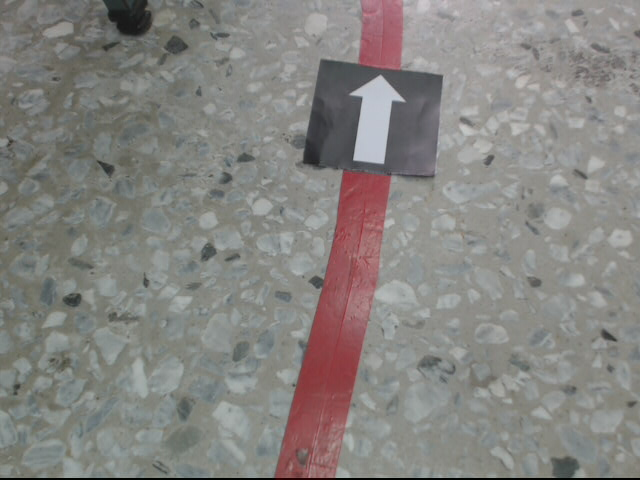straight: (306, 58, 440, 177)
